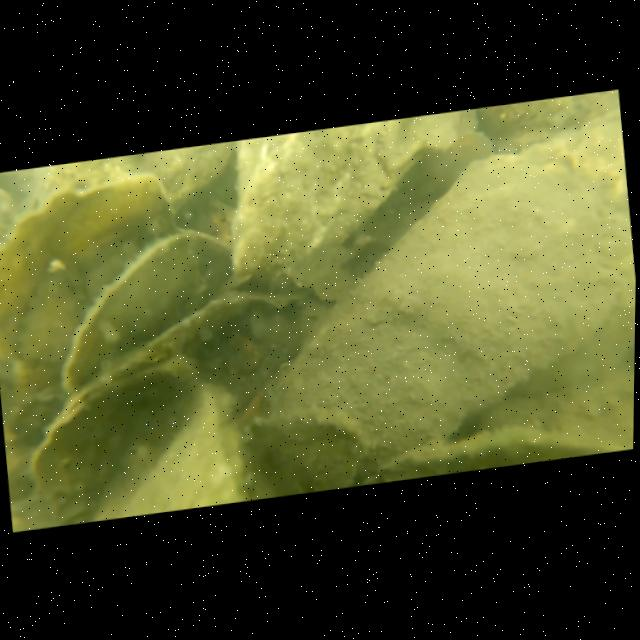Oyster-Closed: (218, 110, 478, 295)
Oyster-Indeterminate: (241, 113, 638, 496), (0, 166, 189, 374)
Oyster-Open: (26, 350, 255, 529), (49, 226, 261, 390)
